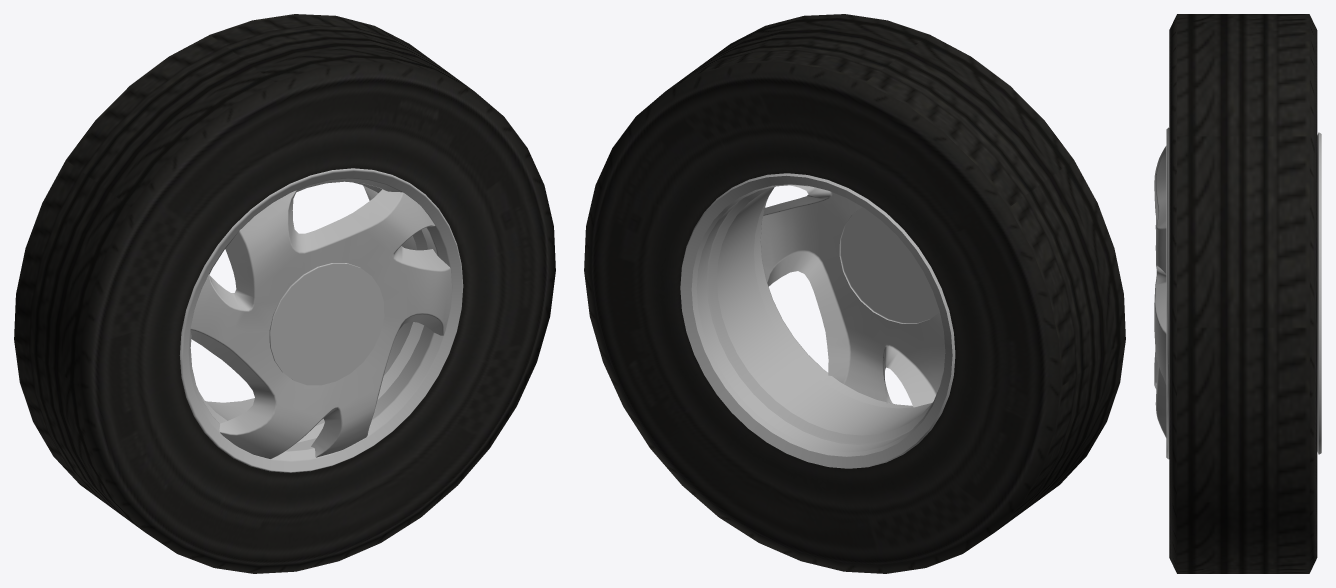
3 views of the same model, side by side, from view 1: azimuth 30°, elevation 25°; view 2: azimuth 150°, elevation 25°; view 3: azimuth 270°, elevation 25° (orthographic).
Visible parts, largest first — view 1: H025_10_901C_R_H025_10_901C_R_2_DM, H025_10_901C_R_1_DaS_H025_10_901C_R; view 2: H025_10_901C_R_H025_10_901C_R_2_DM, H025_10_901C_R_1_DaS_H025_10_901C_R; view 3: H025_10_901C_R_H025_10_901C_R_2_DM, H025_10_901C_R_1_DaS_H025_10_901C_R.
Boxes of the visible parts, bbox=[...] form: H025_10_901C_R_H025_10_901C_R_2_DM: bbox=[14, 14, 555, 573]; H025_10_901C_R_1_DaS_H025_10_901C_R: bbox=[179, 168, 463, 472]; H025_10_901C_R_H025_10_901C_R_2_DM: bbox=[584, 14, 1125, 573]; H025_10_901C_R_1_DaS_H025_10_901C_R: bbox=[680, 173, 955, 468]; H025_10_901C_R_H025_10_901C_R_2_DM: bbox=[1169, 14, 1317, 573]; H025_10_901C_R_1_DaS_H025_10_901C_R: bbox=[1154, 127, 1321, 459].
Bounding box in the file's own units: 63.17 × 63.11 × 18.86.
